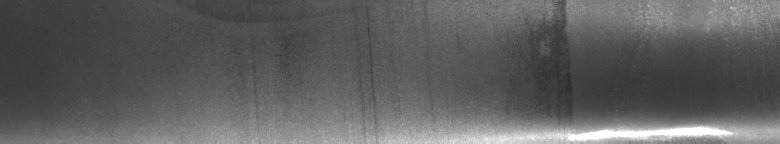ke: (444, 4, 772, 136)
